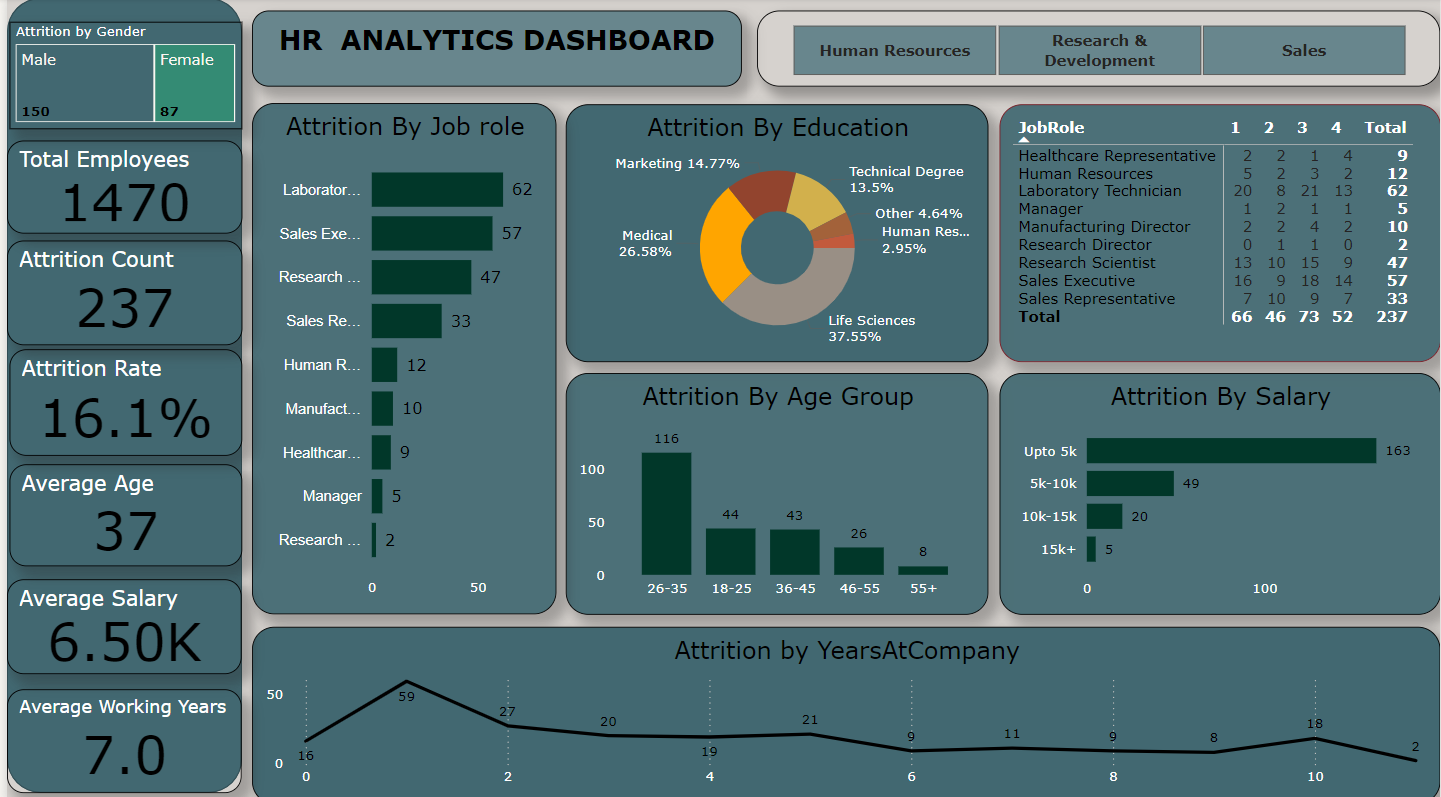

What the dashboard file says about the page in this screenshot:
{"tool":"powerbi","page":{"name":"Part 1","canvas":[1280,720],"ordinal":0},"visuals":[{"type":"shape","box":[0,0,210,710],"z":0},{"type":"pieChart","title":"Attrition  By Education","fields":{"Y":["Sum(HR_Analytics.Attrition Count)"],"Category":["HR_Analytics.EducationField"]},"box":[498.8,95.3,377.9,230.2],"z":1000},{"type":"card","title":"Total Employees","fields":{"Values":["CountNonNull(HR_Analytics.EmpID)"]},"box":[0,127.3,210,83.3],"z":1000,"group":"g1"},{"type":"card","title":"Attrition Count","fields":{"Values":["Sum(HR_Analytics.Attrition Count)"]},"box":[0,216.2,210,93.3],"z":2000,"group":"g1"},{"type":"columnChart","title":"Attrition  By Age Group","fields":{"Category":["HR_Analytics.AgeGroup"],"Y":["Sum(HR_Analytics.Attrition Count)"]},"box":[498.8,334.9,377.9,216.3],"z":2000},{"type":"pivotTable","fields":{"Rows":["HR_Analytics.JobRole"],"Columns":["HR_Analytics.JobSatisfaction"],"Values":["Sum(HR_Analytics.Attrition Count)"]},"box":[886,95.3,394.2,230.2],"z":3000},{"type":"card","title":"Attrition Rate","fields":{"Values":["Sum(HR_Analytics.Attrition Rate)"]},"box":[2.2,314,207.8,95.6],"z":3000,"group":"g1"},{"type":"clusteredBarChart","title":"Attrition  By Salary","fields":{"Category":["HR_Analytics.SalarySlab"],"Y":["Sum(HR_Analytics.Attrition Count)"]},"box":[886,334.9,394.2,216.3],"z":4000},{"type":"card","title":" Average Age","fields":{"Values":["Avg(HR_Analytics.Age)"]},"box":[2.2,416.2,207.7,91.6],"z":4000,"group":"g1"},{"type":"clusteredBarChart","title":"Attrition  By Job role","fields":{"Y":["Sum(HR_Analytics.Attrition Count)"],"Category":["HR_Analytics.JobRole"]},"box":[218.6,94.2,272.1,457],"z":5000},{"type":"card","title":"Average Salary","fields":{"Values":["Avg(HR_Analytics.MonthlyIncome)"]},"box":[0,518.9,209.9,84.9],"z":5000,"group":"g1"},{"type":"areaChart","title":" Attrition by YearsAtCompany","fields":{"Category":["HR_Analytics.YearsAtCompany"],"Y":["Sum(HR_Analytics.Attrition Count)"]},"box":[218.6,561.6,1061.6,158.1],"z":6000},{"type":"card","title":"Average Working Years","fields":{"Values":["Avg(HR_Analytics.YearsAtCompany)"]},"box":[0,617.2,209.9,92.7],"z":6000,"group":"g1"},{"type":"treemap","title":"Attrition by Gender","fields":{"Group":["HR_Analytics.Gender"],"Values":["Sum(HR_Analytics.Attrition Count)"]},"box":[2.2,21.2,207.7,96],"z":7000},{"type":"slicer","fields":{"Values":["HR_Analytics.Department"]},"box":[670,11.1,610,67.8],"z":8000},{"type":"textbox","box":[218.9,11.1,437.8,67.8],"z":9000},{"type":"group","id":"g1","title":"Group 1","box":[0,127.3,210,582.6],"z":10000}]}

Visuals, with their boxes in screenshot pixels (x1, y1, x2, y2), scaled from the page's 1280x720 canvas onto the 1441x797 screenshot:
shape: Rect(0, 0, 236, 786)
"Attrition  By Education" pieChart: Rect(562, 105, 987, 360)
"Total Employees" card: Rect(0, 141, 236, 233)
"Attrition Count" card: Rect(0, 239, 236, 343)
"Attrition  By Age Group" columnChart: Rect(562, 371, 987, 610)
pivotTable - HR_Analytics.JobRole x HR_Analytics.JobSatisfaction: Rect(997, 105, 1440, 360)
"Attrition Rate" card: Rect(2, 348, 236, 453)
"Attrition  By Salary" clusteredBarChart: Rect(997, 371, 1440, 610)
" Average Age" card: Rect(2, 461, 236, 562)
"Attrition  By Job role" clusteredBarChart: Rect(246, 104, 552, 610)
"Average Salary" card: Rect(0, 574, 236, 668)
" Attrition by YearsAtCompany" areaChart: Rect(246, 622, 1440, 796)
"Average Working Years" card: Rect(0, 683, 236, 786)
"Attrition by Gender" treemap: Rect(2, 23, 236, 130)
slicer - HR_Analytics.Department: Rect(754, 12, 1440, 87)
textbox: Rect(246, 12, 739, 87)
"Group 1" group: Rect(0, 141, 236, 786)
